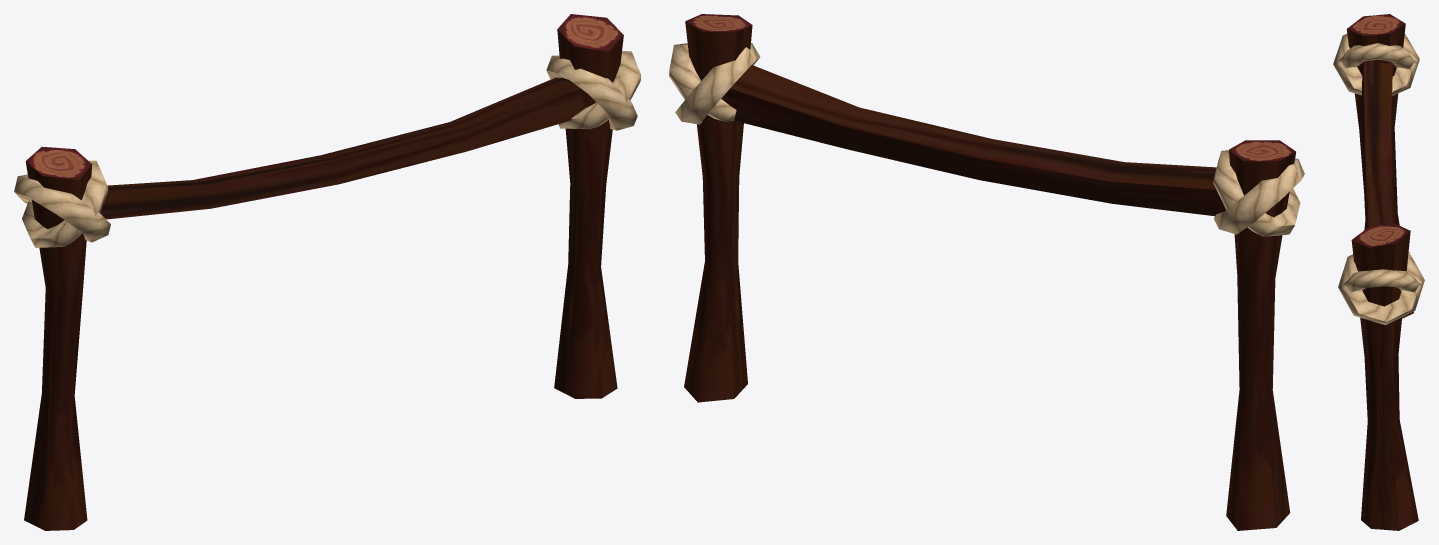
The model's file is SM_PROP_horsestation.glb.
The picture shows the model from 3 angles, left to right: view 1: azimuth 30°, elevation 25°; view 2: azimuth 150°, elevation 25°; view 3: azimuth 270°, elevation 25°; orthographic projection. The views are drawn at different scales.
Visible parts, largest first — view 1: SM_PROP_horsestation_EXPORT; view 2: SM_PROP_horsestation_EXPORT; view 3: SM_PROP_horsestation_EXPORT.
Boxes of the visible parts, bbox=[...] form: SM_PROP_horsestation_EXPORT: bbox=[14, 14, 640, 530]; SM_PROP_horsestation_EXPORT: bbox=[669, 14, 1304, 530]; SM_PROP_horsestation_EXPORT: bbox=[1333, 14, 1424, 530].
Bounding box in the file's own units: 2.05 × 1.16 × 0.3321.
3 materials, 3 textured.
